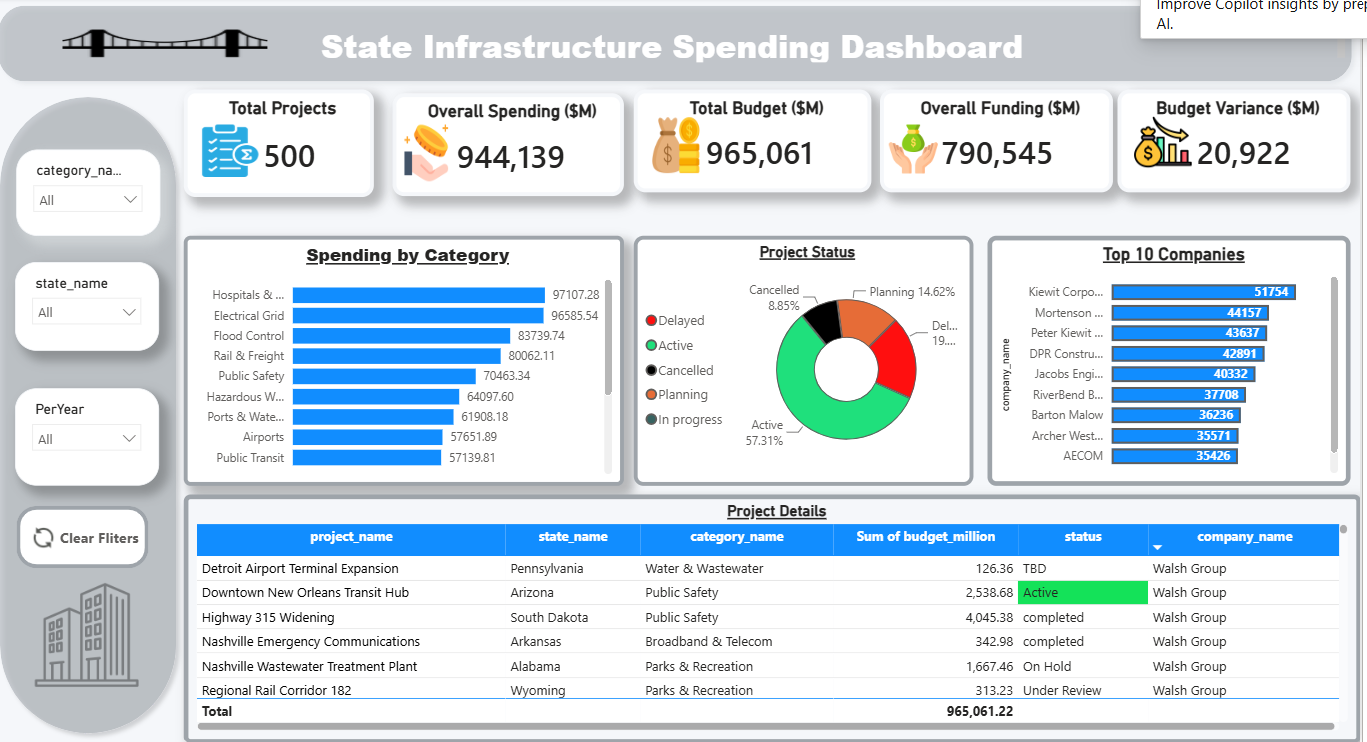

The page's visual inventory and layout, read from the dashboard file:
{"tool":"powerbi","page":{"name":"Page 1","canvas":[1407,766],"ordinal":0},"visuals":[{"type":"shape","box":[1.3,94.2,198.8,671.4],"z":0},{"type":"barChart","title":"Spending by Category","fields":{"Y":["Sum(projects_stagging.actual_cost_milion)"],"Category":["categories_stagging.category_name"]},"box":[198.9,245.2,451.8,256.7],"z":1000},{"type":"slicer","fields":{"Values":["categories_stagging.category_name"]},"box":[27,156.6,147.6,88.6],"z":2000},{"type":"tableEx","title":"Project Details","fields":{"Values":["projects_stagging.project_name","states_stagging.state_name","categories_stagging.category_name","Sum(projects_stagging.budget_million)","projects_stagging.status","contractors_stagging.company_name"]},"box":[198.8,511.3,1208.4,255.6],"z":3000},{"type":"shape","box":[0,0,1407.3,95.5],"z":4000},{"type":"slicer","fields":{"Values":["states_stagging.state_name"]},"box":[25.7,272.1,147.6,91.1],"z":5000},{"type":"slicer","fields":{"Values":["projects_stagging.PerYear"]},"box":[25.7,401.7,147.6,100.1],"z":6000},{"type":"donutChart","title":"Project Status","fields":{"Y":["projects_stagging.delayed_Status","projects_stagging.active_Status","projects_stagging.cancelled_Status","projects_stagging.Planning_Status","projects_stagging.in_progress_Status"]},"box":[661,245.3,348.6,256.9],"z":7000},{"type":"clusteredBarChart","title":"Top 10 Companies","fields":{"Category":["contractors_stagging.company_name"],"Y":["Sum(projects_stagging.actual_cost_milion)"]},"box":[1023.8,245.3,373.1,256.9],"z":8000},{"type":"actionButton","box":[27,522.4,136.1,64.2],"z":9000},{"type":"cardVisual","title":"Overall Spending ($M)","fields":{"Data":["Sum(projects_stagging.actual_cost_milion)"]},"box":[413.1,99.4,237.6,105.9],"z":10000},{"type":"cardVisual","title":"Total Budget ($M)","fields":{"Data":["Sum(projects_stagging.budget_million)"]},"box":[661,95.5,244,105.9],"z":11000},{"type":"cardVisual","title":"Overall  Funding ($M)","fields":{"Data":["Sum(funding_sources_stagging.amount_million)"]},"box":[914.1,95.5,238.8,105.9],"z":12000},{"type":"cardVisual","title":"Budget Variance ($M)","fields":{"Data":["projects_stagging.Cost_Over_run"]},"box":[1158.1,95.5,238.8,105.9],"z":13000},{"type":"image","box":[679.1,118.8,50.4,65.8],"z":14000},{"type":"image","box":[923.1,117.5,50.4,76.2],"z":15000},{"type":"image","box":[1173.6,118.8,62,59.4],"z":16000},{"type":"image","box":[424.8,130.4,46.5,58.1],"z":17000},{"type":"cardVisual","title":"Total Projects","fields":{"Data":["CountNonNull(projects_stagging.project_id)"]},"box":[198.9,95,195.1,110.4],"z":18000},{"type":"image","box":[207.9,126.5,77.5,62],"z":19000},{"type":"image","box":[32.3,600.3,134.3,108.4],"z":20000},{"type":"image","box":[74.9,11.6,210.4,72.3],"z":20500},{"type":"textbox","box":[11.6,23.2,1385.3,49.1],"z":21000}]}

Visuals, with their boxes in screenshot pixels (x1, y1, x2, y2), scaled from the page's 1407x766 canvas onto the 1367x742 screenshot:
shape: [1, 91, 194, 741]
"Spending by Category" barChart: [193, 238, 632, 486]
slicer - categories_stagging.category_name: [26, 152, 170, 238]
"Project Details" tableEx: [193, 495, 1366, 741]
shape: [0, 0, 1366, 93]
slicer - states_stagging.state_name: [25, 264, 168, 352]
slicer - projects_stagging.PerYear: [25, 389, 168, 486]
"Project Status" donutChart: [642, 238, 981, 486]
"Top 10 Companies" clusteredBarChart: [995, 238, 1357, 486]
actionButton: [26, 506, 158, 568]
"Overall Spending ($M)" cardVisual: [401, 96, 632, 199]
"Total Budget ($M)" cardVisual: [642, 93, 879, 195]
"Overall  Funding ($M)" cardVisual: [888, 93, 1120, 195]
"Budget Variance ($M)" cardVisual: [1125, 93, 1357, 195]
image: [660, 115, 709, 179]
image: [897, 114, 946, 188]
image: [1140, 115, 1200, 173]
image: [413, 126, 458, 183]
"Total Projects" cardVisual: [193, 92, 383, 199]
image: [202, 123, 277, 183]
image: [31, 581, 162, 686]
image: [73, 11, 277, 81]
textbox: [11, 22, 1357, 70]
